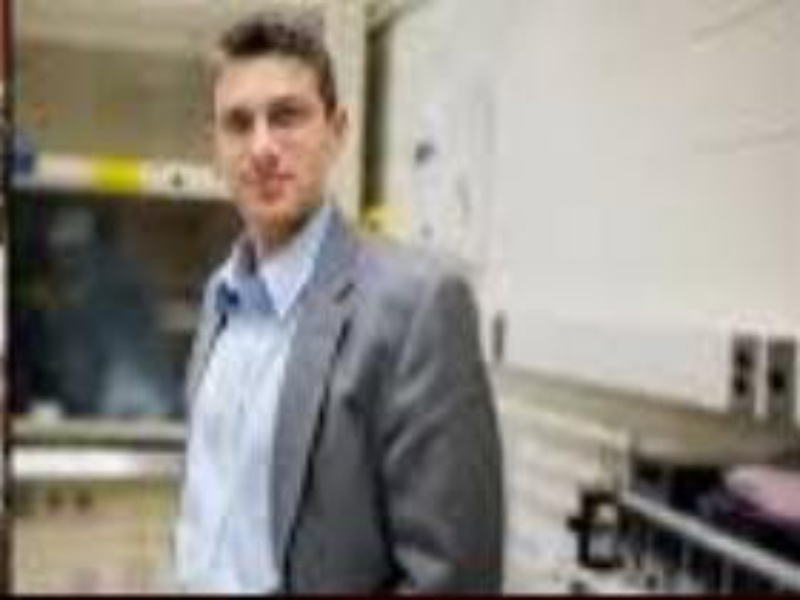TsisyArotava: (196, 20, 366, 231)
